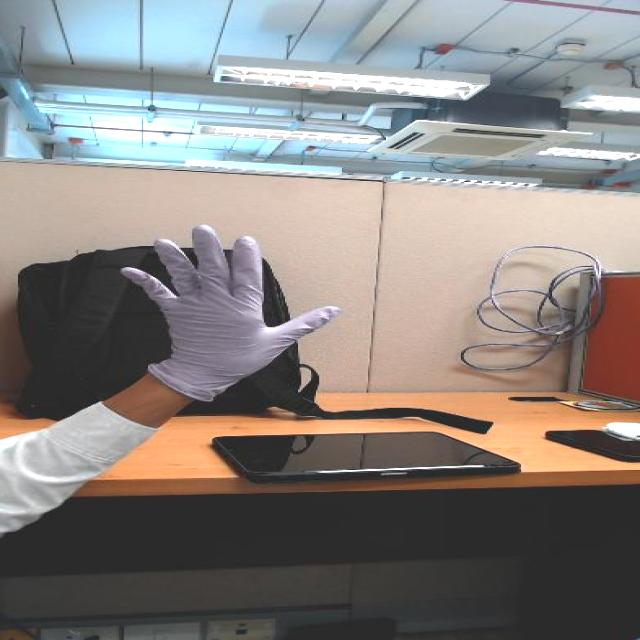glove: (100, 210, 362, 382)
